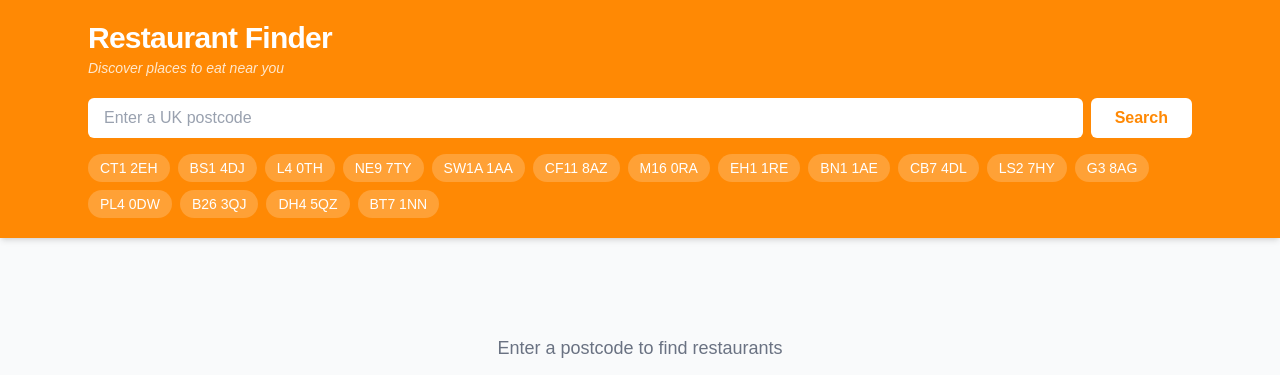
Test: Home page › shows an error message on failed search
The image size is (1280, 375).
In the field with placeholder "Enter a UK postcode": [585, 118] box [88,98,1083,138], type "SW1A 1AA"
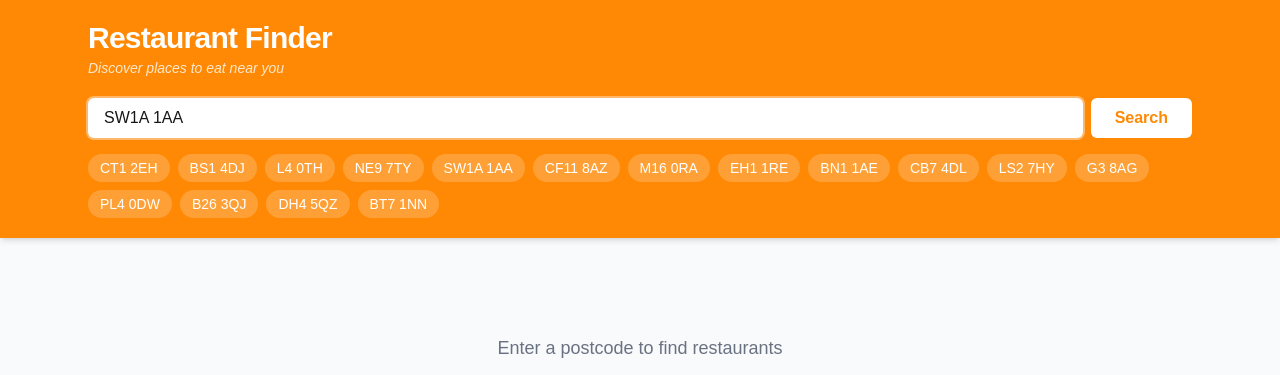
Click the button "Search": [1141, 118] box [1091,98,1192,138]
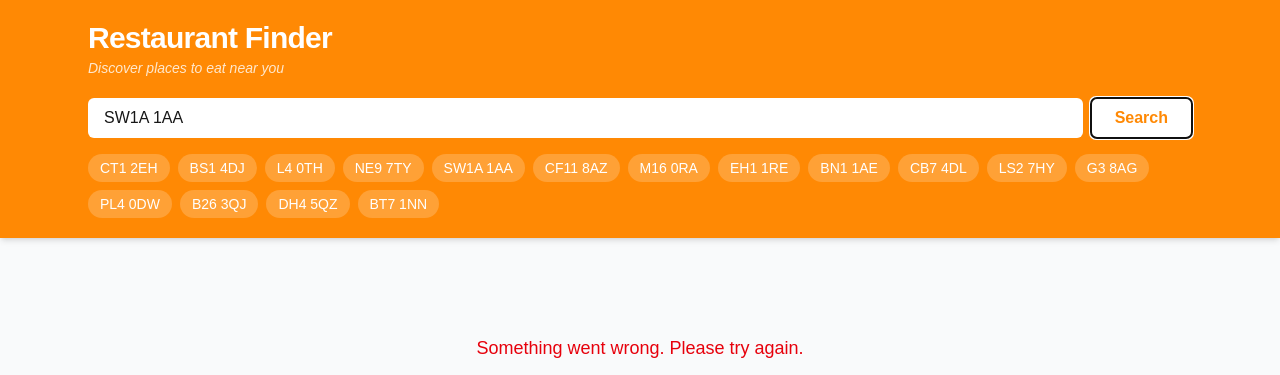
Result: the text "Something went wrong. Please try again." is shown at [476,338,804,358]
